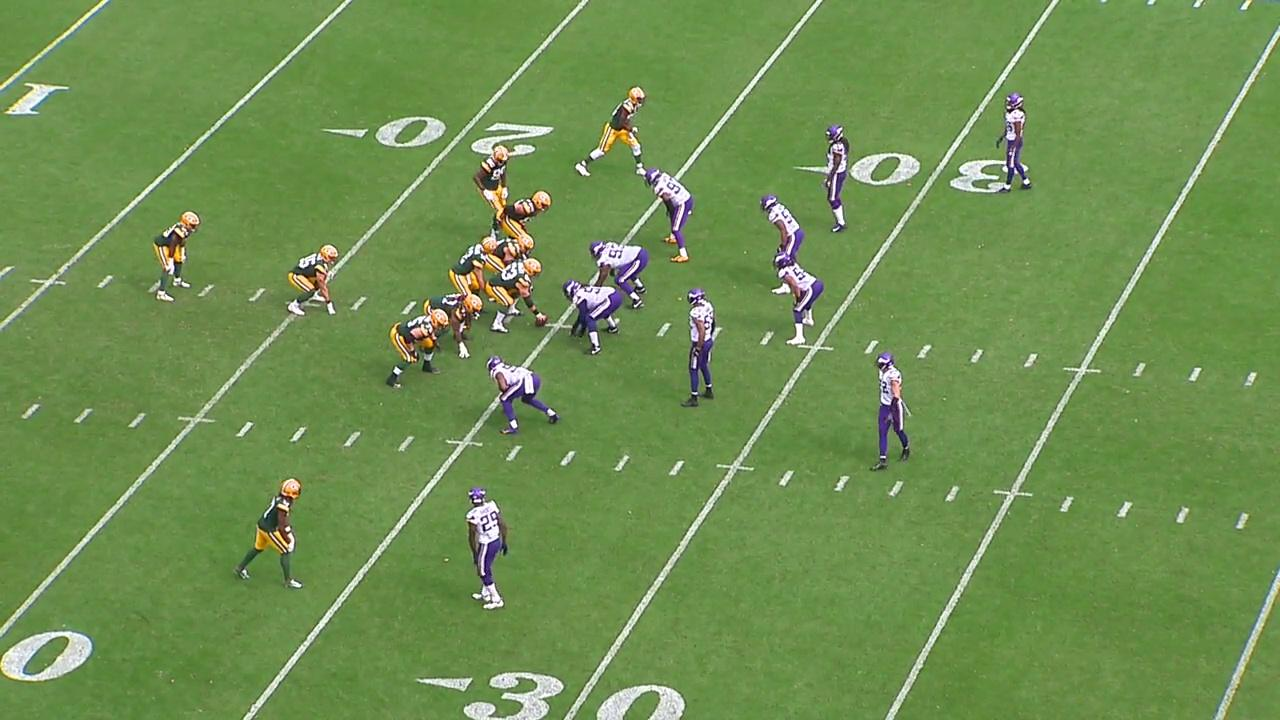defense: (482, 352, 561, 437), (463, 484, 512, 614), (867, 349, 913, 473), (769, 250, 826, 346), (559, 277, 627, 357), (642, 167, 696, 264), (679, 285, 719, 411), (759, 192, 807, 296), (585, 237, 651, 311), (993, 90, 1036, 195), (820, 122, 851, 236)
oline: (382, 308, 450, 394), (484, 256, 551, 335), (418, 290, 484, 360), (490, 186, 557, 238), (479, 231, 537, 276)
qb: (448, 233, 497, 342)
skill: (232, 473, 308, 592), (573, 83, 651, 181), (147, 209, 203, 304), (285, 241, 342, 320), (471, 143, 513, 237)
